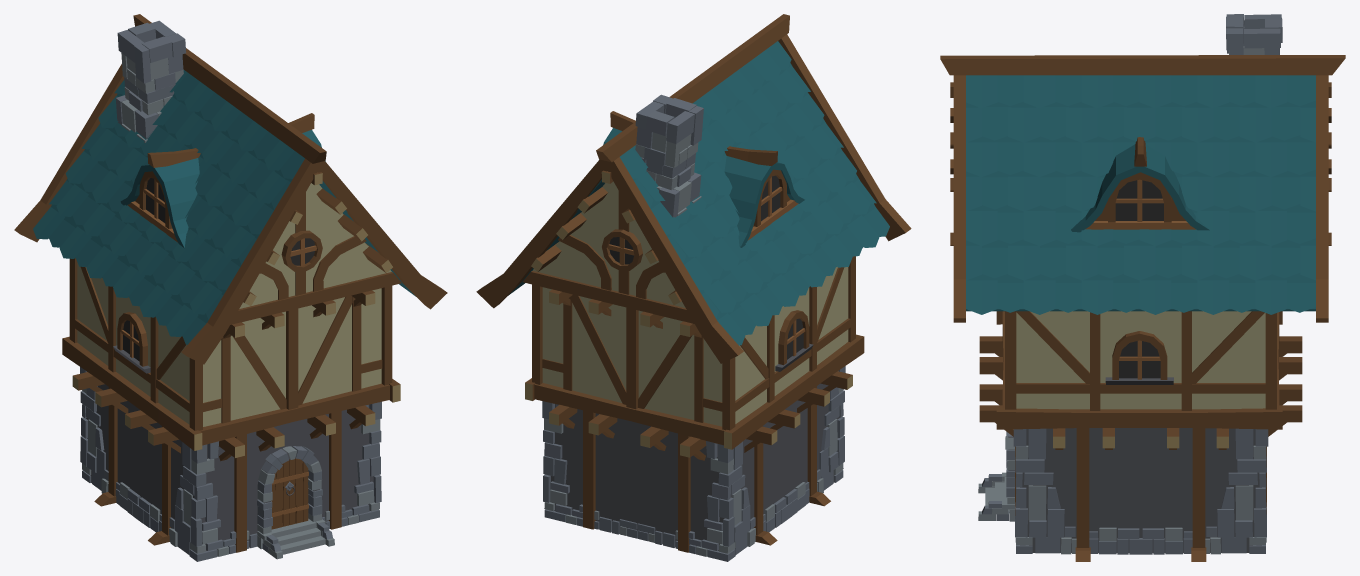
The model's file is House_1.glb.
The picture shows the model from 3 angles, left to right: view 1: azimuth 30°, elevation 25°; view 2: azimuth 150°, elevation 25°; view 3: azimuth 270°, elevation 25°; orthographic projection. The views are drawn at different scales.
Parts seen in each view (by area): view 1: House_1; view 2: House_1; view 3: House_1.
Part boxes in pixels (box(x1,y1,x2,y2)): House_1: box(14, 14, 447, 561); House_1: box(476, 14, 911, 561); House_1: box(940, 14, 1345, 561).
Bounding box in the file's own units: 2.14 × 3.39 × 2.66.
